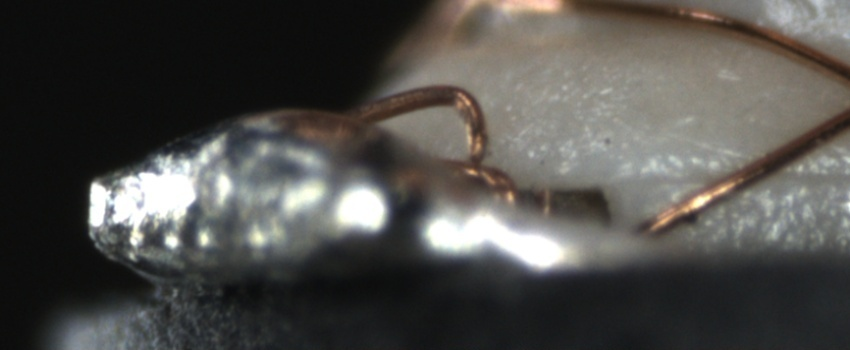DL: (643, 143, 849, 207)
TE: (346, 74, 562, 215)
